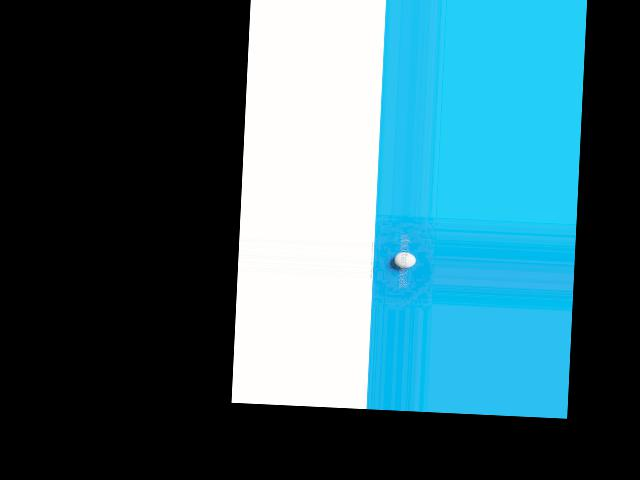egg: (393, 252, 416, 268)
